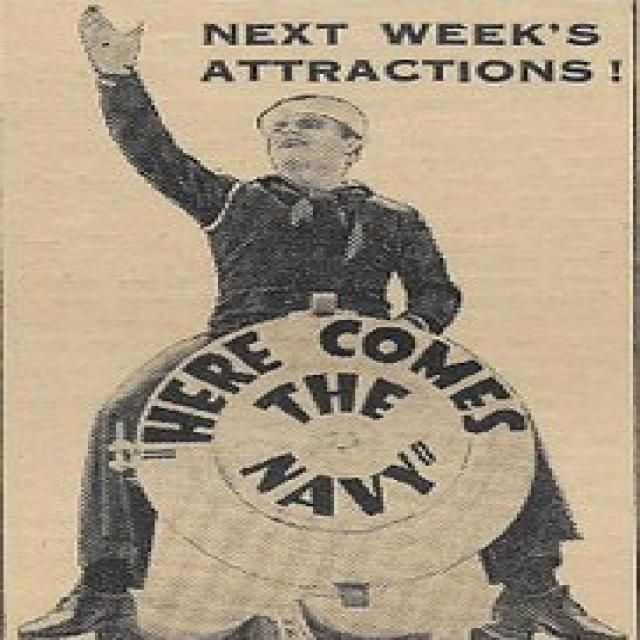movie-judul: (147, 321, 522, 532)
picture: (63, 7, 627, 640)
